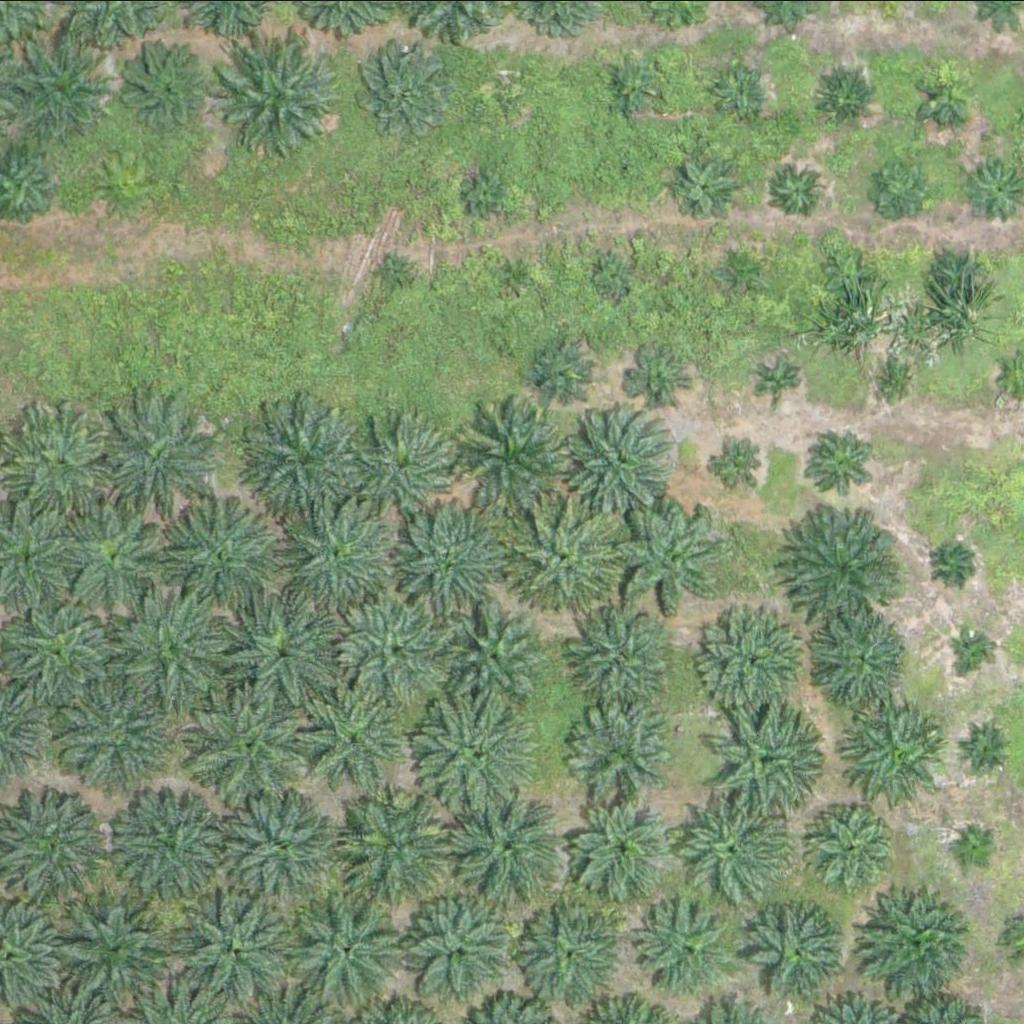Kelapa_Sawit: (403, 887, 529, 1012), (286, 887, 412, 1012), (107, 777, 233, 902), (333, 781, 459, 906), (449, 782, 575, 907), (189, 684, 315, 809), (57, 677, 183, 802), (120, 588, 246, 713), (223, 594, 349, 719), (345, 586, 471, 711), (396, 499, 522, 624), (282, 491, 408, 616), (161, 496, 287, 621), (99, 394, 225, 519), (244, 398, 370, 523), (464, 387, 590, 512), (215, 38, 341, 163), (703, 693, 829, 818), (669, 785, 795, 910), (169, 881, 294, 1006), (57, 881, 182, 1006), (220, 781, 345, 906), (416, 686, 541, 811), (784, 497, 909, 622), (865, 888, 979, 1001), (611, 497, 724, 610), (697, 608, 810, 721), (5, 30, 118, 142), (571, 401, 684, 513), (506, 497, 619, 609), (847, 700, 960, 812), (307, 686, 408, 786), (359, 412, 460, 512), (354, 42, 455, 142), (808, 611, 909, 711), (573, 605, 674, 705), (572, 706, 673, 806), (575, 796, 676, 896), (802, 797, 903, 897), (522, 908, 623, 1008), (638, 896, 739, 996), (69, 505, 169, 605), (747, 904, 847, 1004), (455, 614, 544, 701), (119, 43, 207, 130), (864, 155, 940, 230), (800, 423, 875, 498), (928, 244, 991, 307), (627, 348, 690, 411), (529, 338, 592, 401), (812, 65, 875, 128), (602, 55, 665, 118), (671, 159, 734, 221), (717, 434, 768, 484), (826, 246, 877, 296), (921, 72, 971, 122), (960, 723, 1010, 773), (773, 164, 823, 214), (714, 70, 764, 120), (955, 822, 1005, 872), (930, 544, 968, 582), (593, 258, 631, 296), (495, 254, 533, 292), (376, 253, 414, 291), (719, 251, 757, 289), (956, 628, 994, 665), (489, 68, 526, 106), (469, 173, 507, 210), (764, 361, 801, 398), (874, 357, 911, 394), (619, 154, 644, 179)
